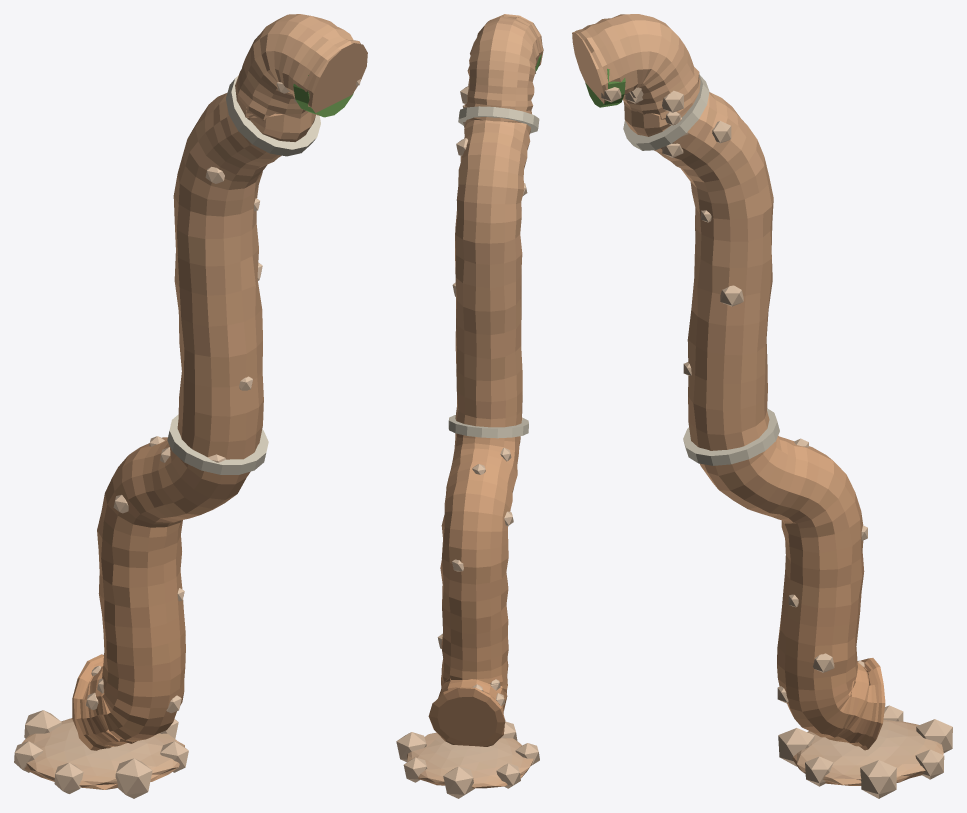
File: goo_drop_tube_goo_3@garden.fbx
3 views of the same model, side by side, from view 1: azimuth 30°, elevation 25°; view 2: azimuth 150°, elevation 25°; view 3: azimuth 270°, elevation 25° (orthographic). The views are drawn at different scales.
Visible parts, largest first — view 1: goo_drop_tube_goo_3; view 2: goo_drop_tube_goo_3; view 3: goo_drop_tube_goo_3.
Boxes of the visible parts, x1,y1,x2,y2 form: goo_drop_tube_goo_3: (14,14,367,798); goo_drop_tube_goo_3: (396,14,543,798); goo_drop_tube_goo_3: (572,14,952,798).
Size of the model in its own units: 9.68 by 37.69 by 16.49.
